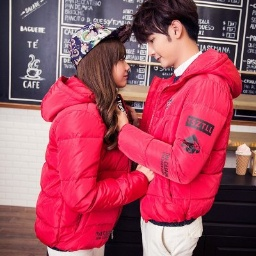face: (133, 1, 203, 67), (71, 27, 132, 101)
